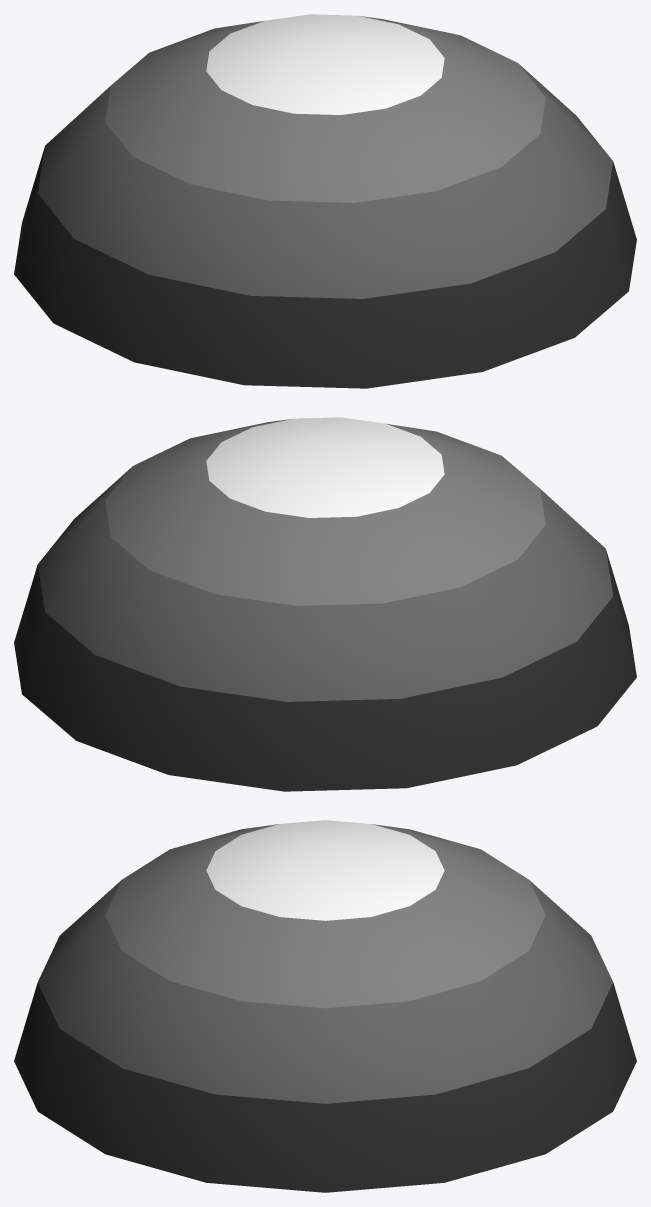
The model's file is intro_track.fbx.
3 renders of one model, top to bottom at view 1: azimuth 30°, elevation 25°; view 2: azimuth 150°, elevation 25°; view 3: azimuth 270°, elevation 25°, orthographic.
Visible parts, largest first — view 1: Sphere; view 2: Sphere; view 3: Sphere.
Boxes of the visible parts, x1=… form: Sphere: x1=14, y1=14, x2=636, y2=388; Sphere: x1=14, y1=417, x2=636, y2=791; Sphere: x1=14, y1=820, x2=636, y2=1192.
Size of what is drawn, in the model's own units: 2 by 2 by 0.7139.
